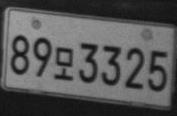2: (125, 47, 145, 89)
3: (78, 42, 98, 83), (101, 45, 121, 86)
5: (147, 50, 168, 92)
8: (10, 34, 29, 75)
9: (32, 36, 52, 77)
모: (55, 46, 74, 81)
